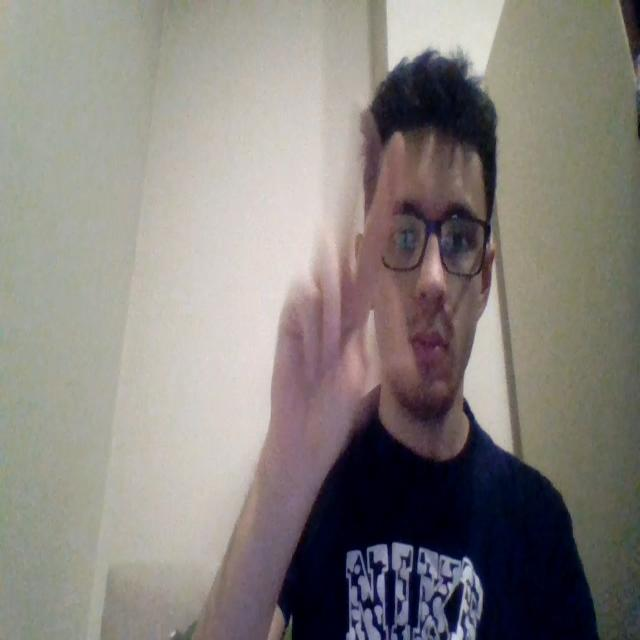no: (268, 120, 407, 472)
